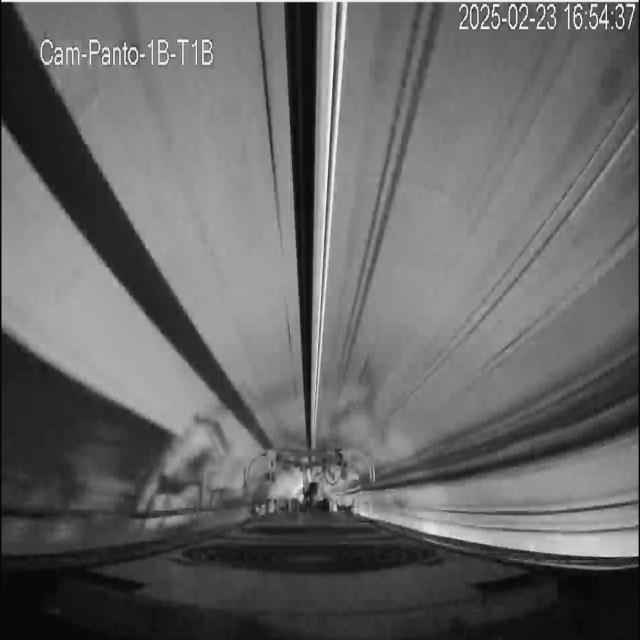Camera Stamp: (37, 31, 220, 71)
Date Stamp: (458, 3, 635, 33)
